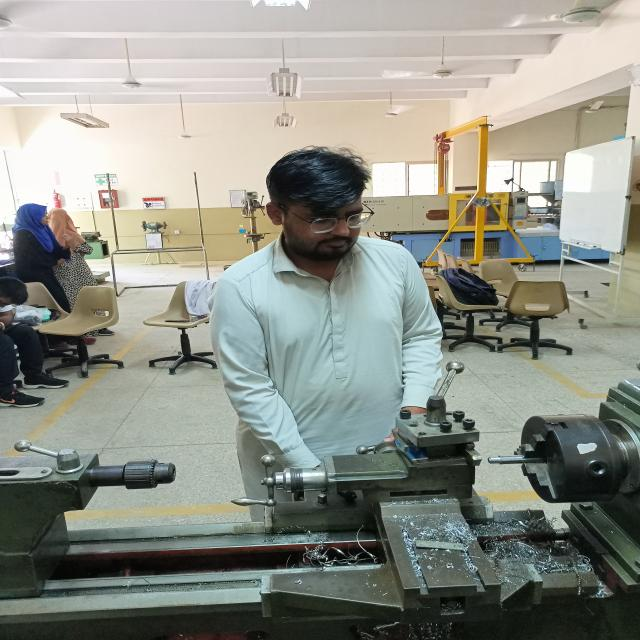dress: (205, 234, 448, 526), (12, 198, 71, 326), (48, 210, 106, 302)
glasses: (300, 209, 378, 236)
